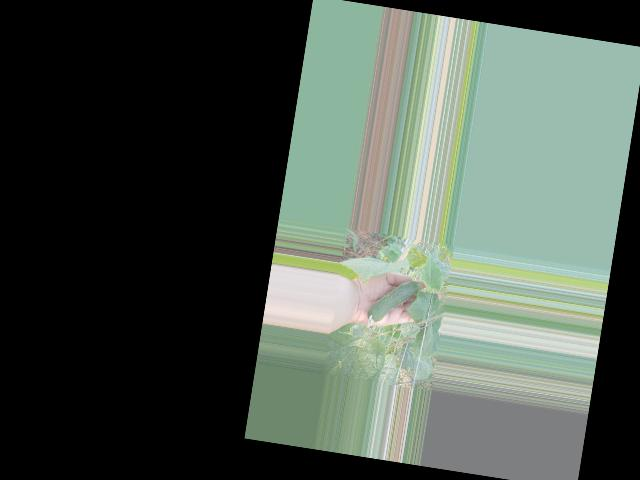cucumber: (365, 275, 419, 335)
